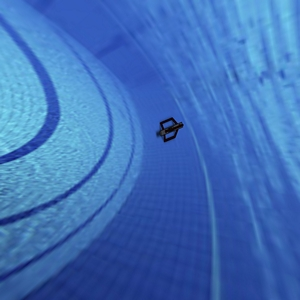submarine: (146, 96, 191, 154)
